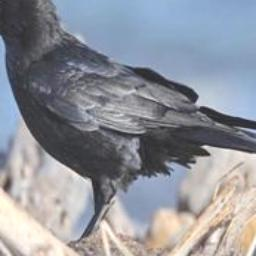Crow: (0, 0, 256, 252)
